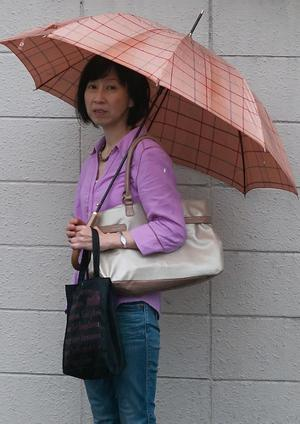person: (66, 54, 187, 424)
